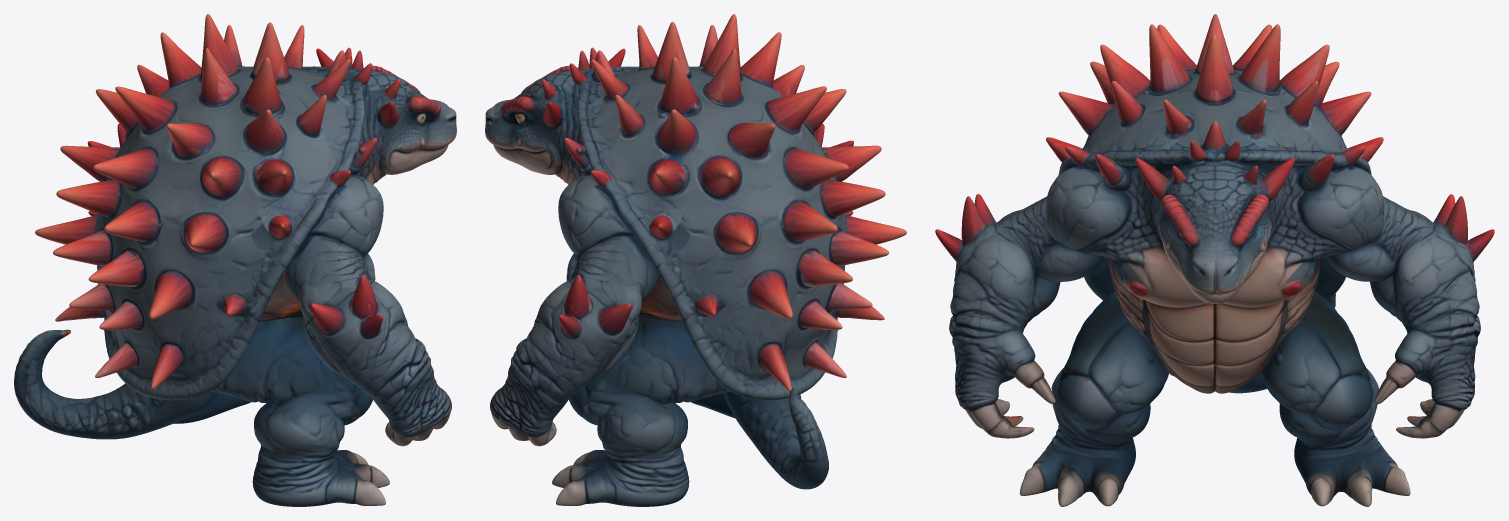
The model's file is bowser_hero.glb.
3 views of the same model, side by side, from view 1: azimuth 30°, elevation 25°; view 2: azimuth 150°, elevation 25°; view 3: azimuth 270°, elevation 25° (orthographic). The views are drawn at different scales.
Parts seen in each view (by area): view 1: tripo_node_a5e959b1-297b-4c26-bd56-f17d42adcfa7; view 2: tripo_node_a5e959b1-297b-4c26-bd56-f17d42adcfa7; view 3: tripo_node_a5e959b1-297b-4c26-bd56-f17d42adcfa7.
Part boxes in pixels (left/top/right/bottom): tripo_node_a5e959b1-297b-4c26-bd56-f17d42adcfa7: left=14, top=14, right=456, bottom=506; tripo_node_a5e959b1-297b-4c26-bd56-f17d42adcfa7: left=485, top=14, right=906, bottom=506; tripo_node_a5e959b1-297b-4c26-bd56-f17d42adcfa7: left=935, top=14, right=1494, bottom=506.
Bounding box in the file's own units: 0.8497 × 0.8849 × 1.
1 material, 1 textured.
